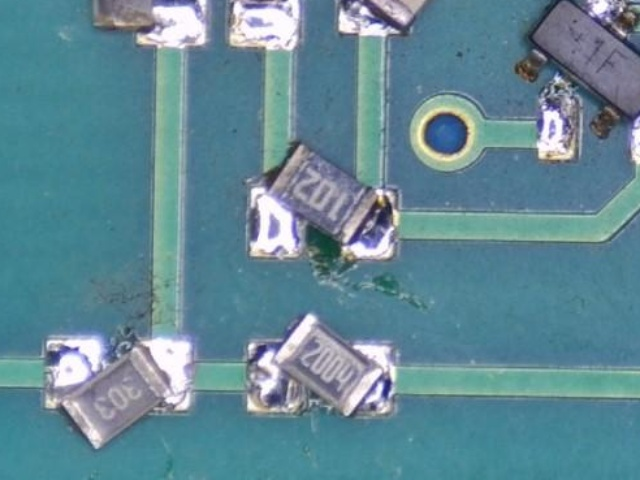pcb_defect: (515, 0, 640, 163), (249, 140, 398, 262), (44, 337, 194, 453), (246, 312, 395, 419)
